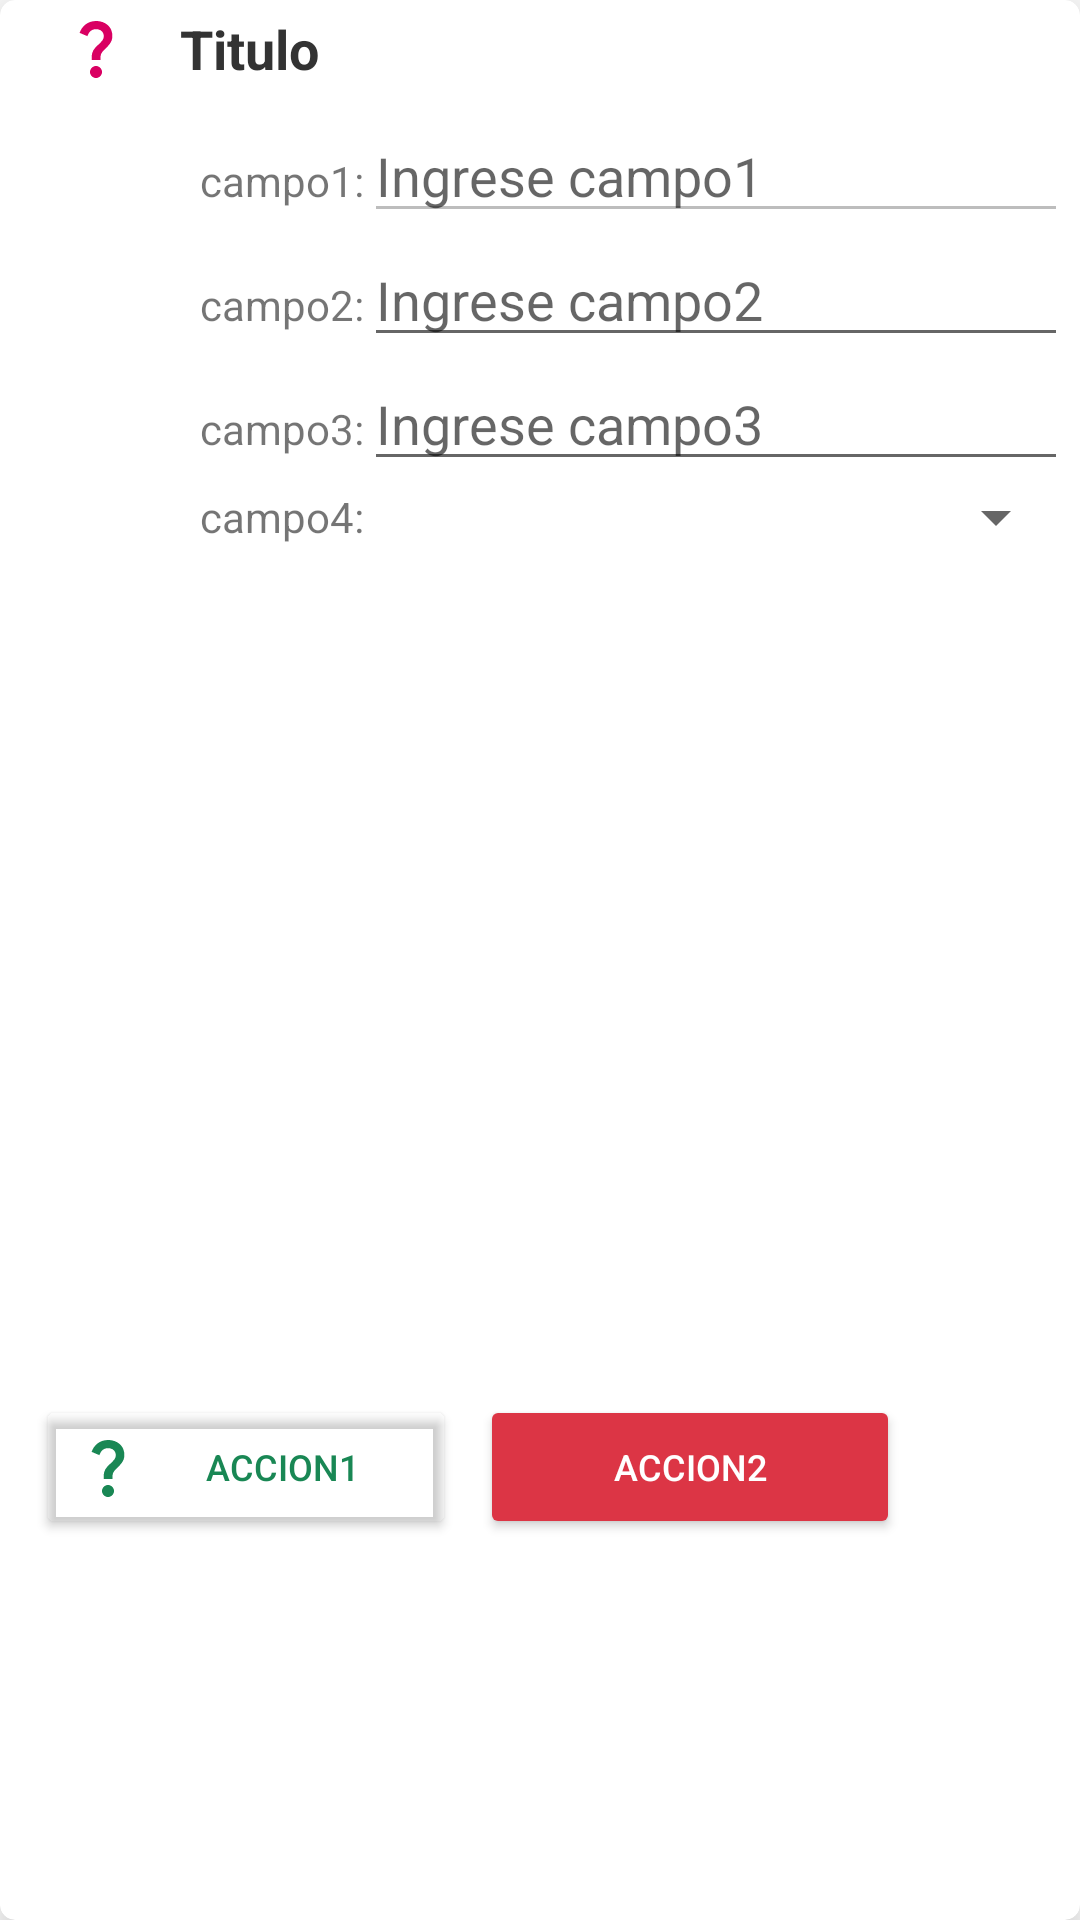

Screen size 1080 × 1920. Icon name, then its center in pixels as (x,y):
question mark first: (96,49)
